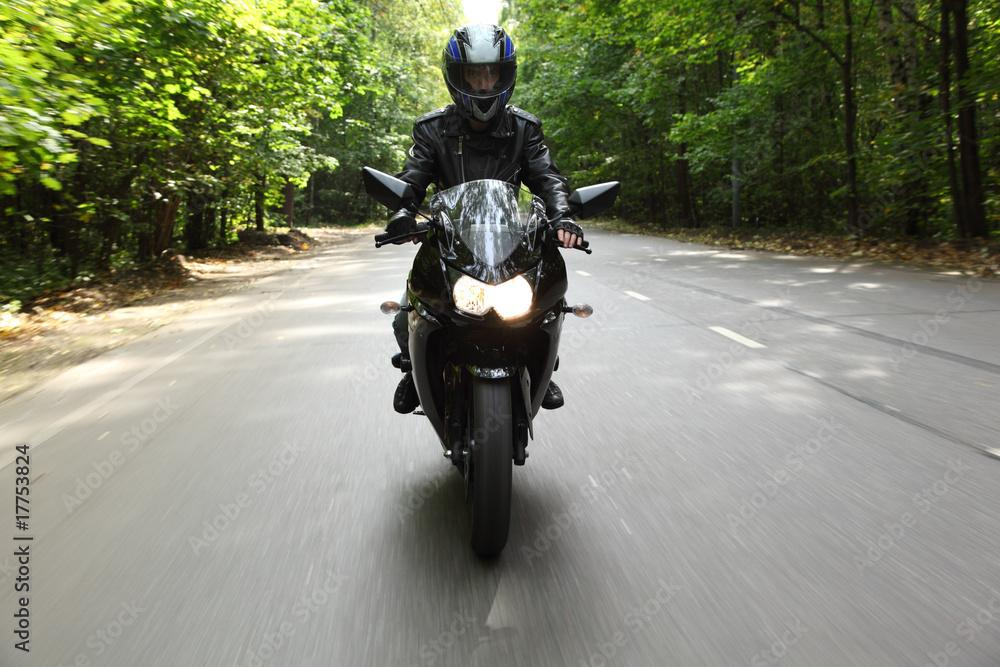helmet: (440, 22, 518, 123)
